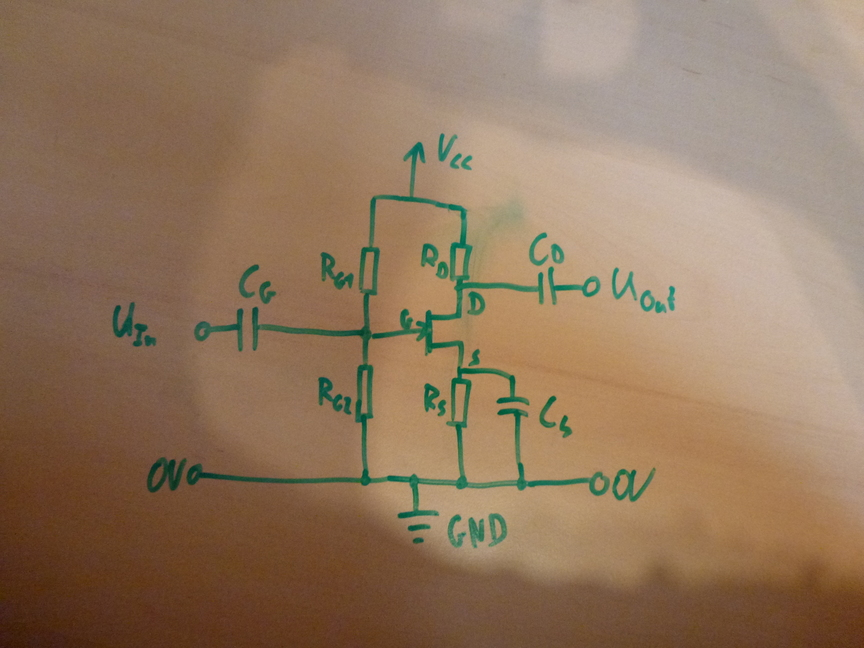capacitor.unpolarized: (233, 305, 266, 354), (534, 267, 560, 307), (495, 392, 530, 421)
gnd: (396, 506, 440, 546)
junction: (358, 324, 375, 343), (454, 475, 469, 491), (408, 472, 421, 488), (516, 477, 528, 492), (359, 473, 371, 487), (458, 204, 469, 215), (506, 371, 517, 382), (369, 193, 380, 203), (455, 365, 465, 375), (407, 193, 416, 204), (454, 283, 465, 291)
resistor: (354, 362, 375, 426), (448, 377, 472, 429), (358, 245, 380, 298), (450, 241, 472, 281)
terminal: (587, 470, 610, 497), (579, 275, 602, 299), (185, 462, 205, 487), (192, 320, 212, 342)
text: (611, 267, 677, 314), (446, 512, 508, 549), (111, 301, 158, 348), (611, 466, 657, 503), (238, 263, 277, 304), (145, 456, 187, 493), (538, 395, 573, 439), (316, 375, 353, 416), (437, 132, 474, 172), (319, 251, 355, 291), (527, 232, 565, 267), (420, 242, 449, 280), (421, 382, 448, 418), (467, 290, 486, 316), (398, 308, 414, 330), (467, 348, 481, 367)
transistor: (414, 309, 466, 356)
vss: (402, 141, 426, 164)
